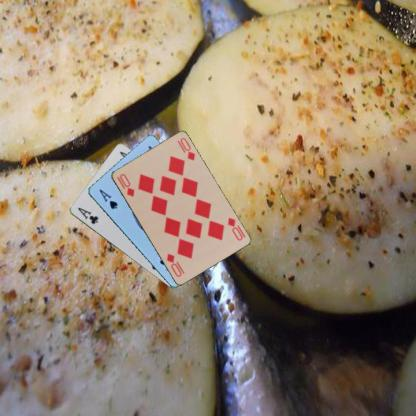10d: (114, 171, 135, 198), (225, 215, 244, 242)
Ac: (75, 204, 99, 226)
As: (97, 187, 119, 210)
